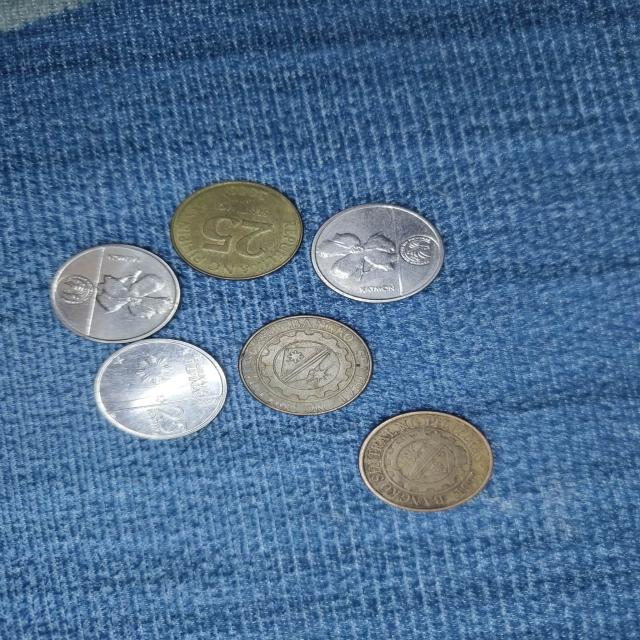25 cents: (85, 339, 237, 446), (46, 242, 190, 346), (311, 200, 449, 304)
25 cents-old: (232, 310, 380, 421), (169, 172, 311, 287), (351, 409, 497, 513)
